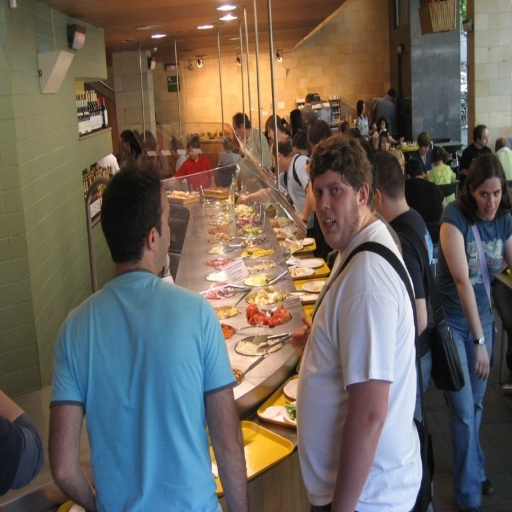hand: (472, 343, 489, 382), (234, 192, 248, 204), (304, 159, 311, 177), (293, 230, 304, 240)
